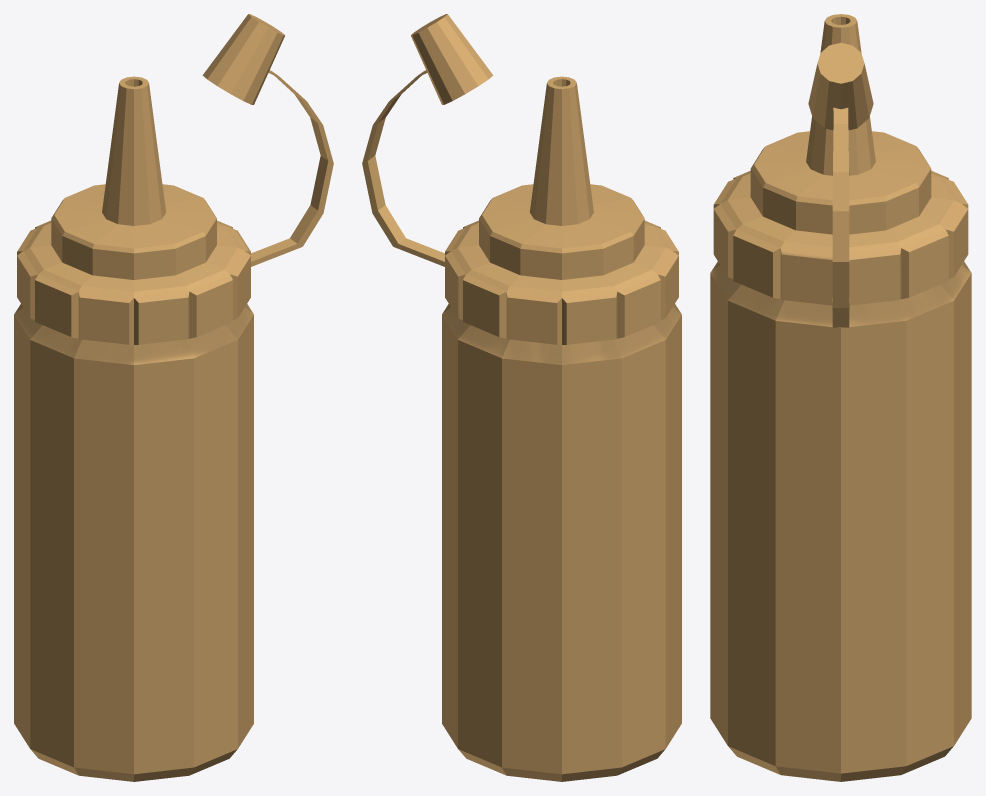
The model's file is 芥末醬_塗色完成.fbx.
3 views of the same model, side by side, from view 1: azimuth 30°, elevation 25°; view 2: azimuth 150°, elevation 25°; view 3: azimuth 270°, elevation 25° (orthographic). The views are drawn at different scales.
Visible parts, largest first — view 1: Circle; view 2: Circle; view 3: Circle.
Part boxes in pixels (x1=…): Circle: x1=14, y1=14, x2=333, y2=781; Circle: x1=362, y1=14, x2=681, y2=781; Circle: x1=710, y1=14, x2=971, y2=781.
Size of the model in its own units: 72.95 by 160 by 50.56.
